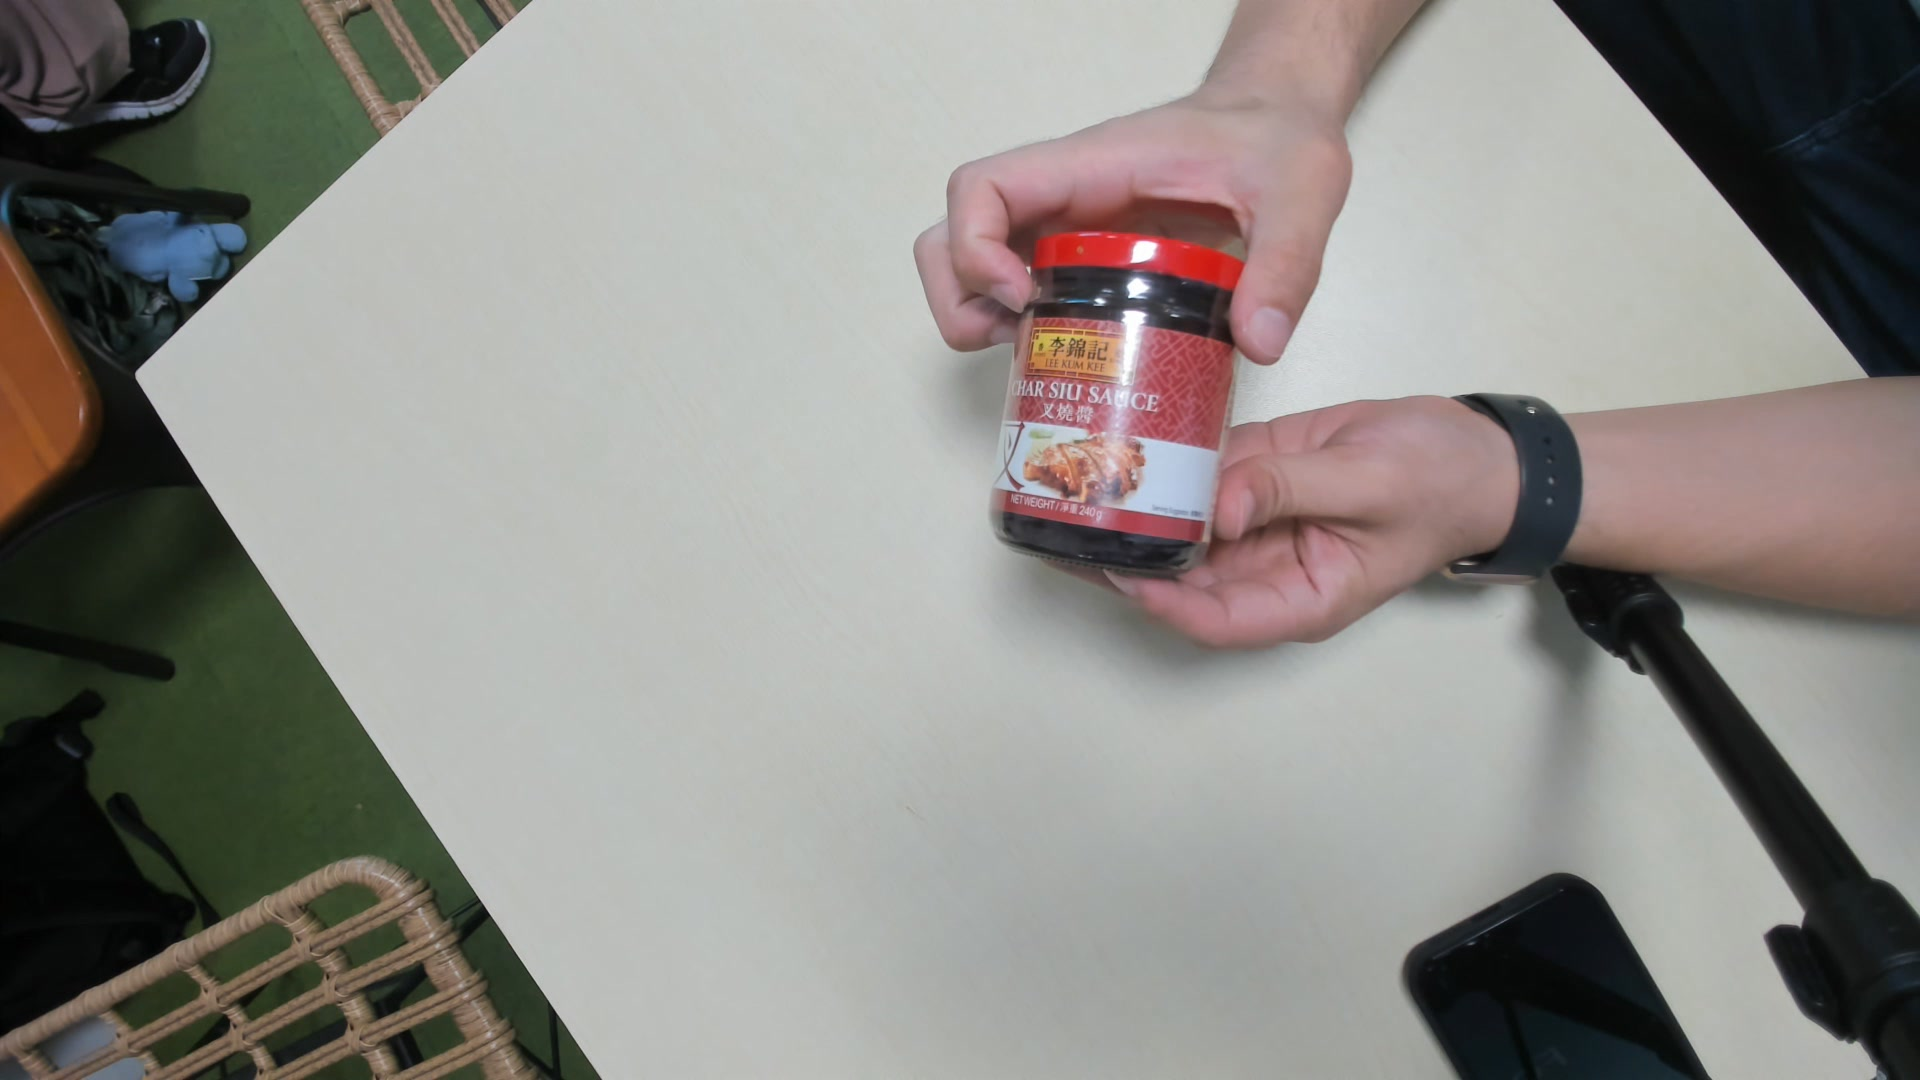OtherSauceDressing_200-299g_NonHalal_NonHealthy: (996, 231, 1244, 578)
